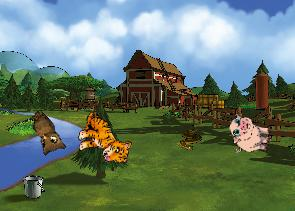owl: (18, 108, 70, 161)
pig: (227, 113, 273, 155)
tiger: (73, 110, 136, 166)
